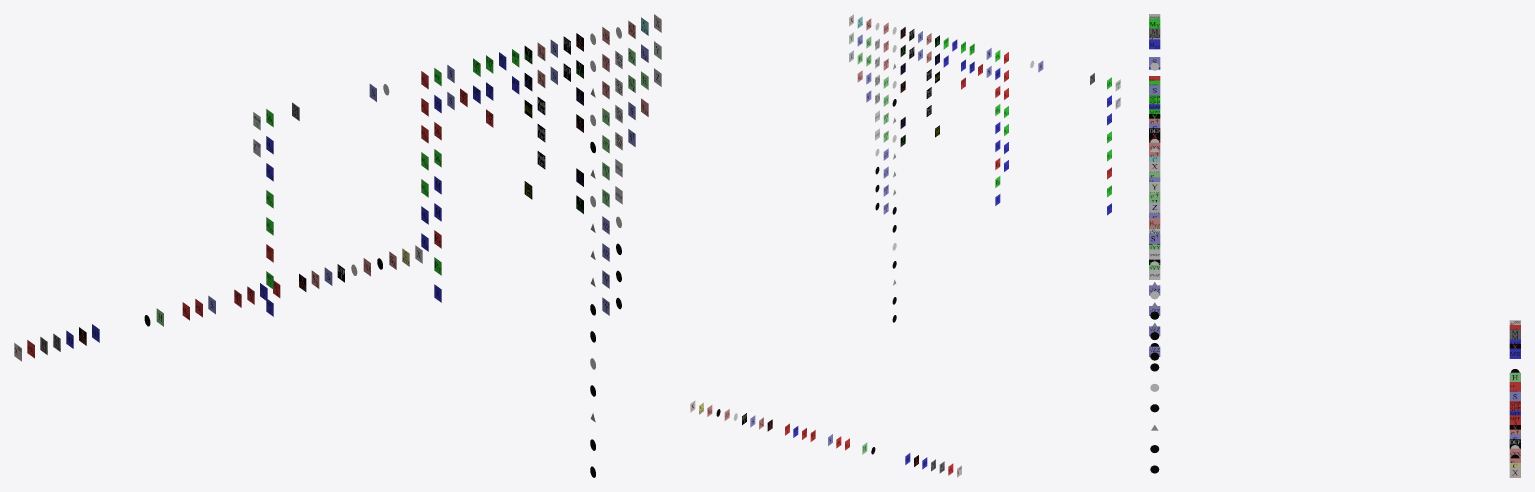
File: circuit_all_ops_3d.gltf
3 views of the same model, side by side, from view 1: azimuth 30°, elevation 25°; view 2: azimuth 150°, elevation 25°; view 3: azimuth 270°, elevation 25° (orthographic). The views are drawn at different scales.
Size of the model in its own units: 31 by 32.9 by 33.
6 materials, 1 textured.
